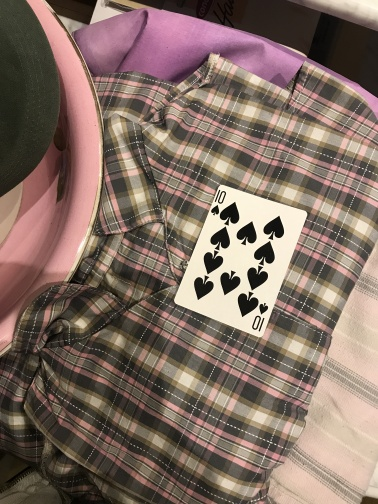ten: (173, 184, 308, 339)
